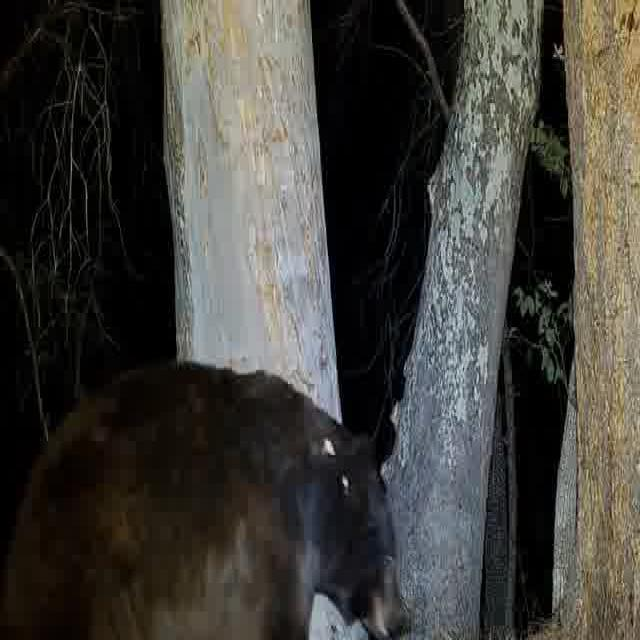bear face: (0, 355, 410, 640)
